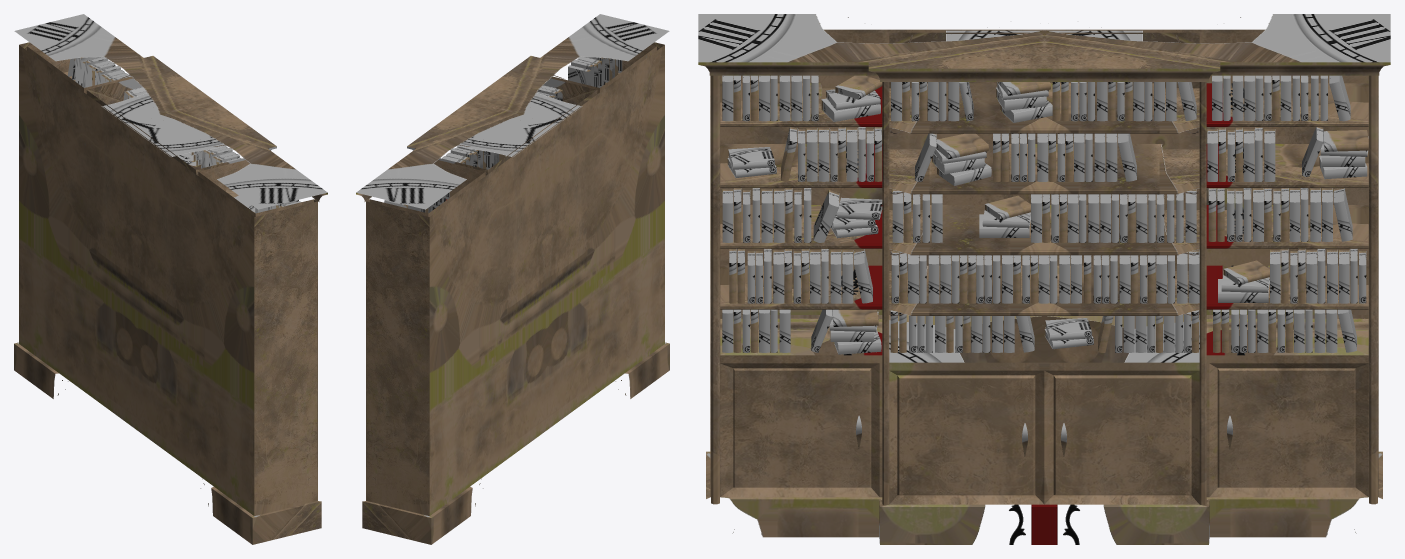
Rendered from bookshelf.fbx.
3 renders of one model, left to right at view 1: azimuth 30°, elevation 25°; view 2: azimuth 150°, elevation 25°; view 3: azimuth 270°, elevation 25°, orthographic. The views are drawn at different scales.
Parts seen in each view (by area): view 1: pCube286; view 2: pCube286; view 3: pCube286.
Boxes of the visible parts, bbox=[...] form: pCube286: bbox=[14, 14, 327, 544]; pCube286: bbox=[356, 14, 669, 544]; pCube286: bbox=[698, 14, 1390, 544].
Size of the model in its own units: 58.17 by 229 by 301.
